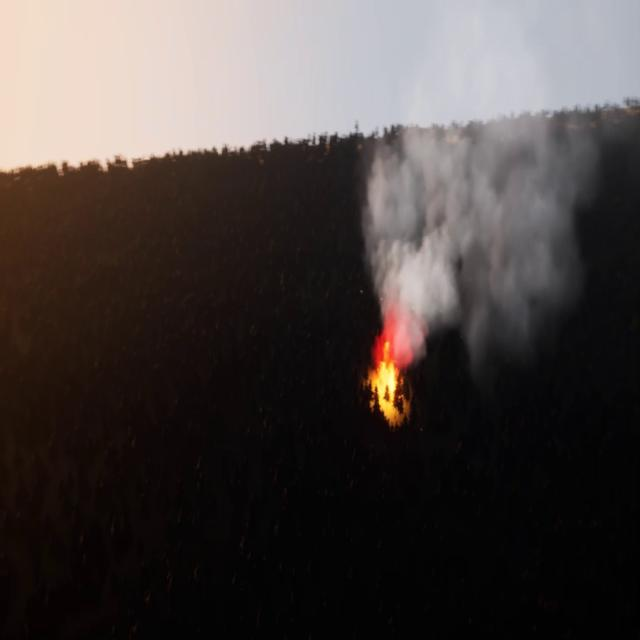fire: (369, 339, 409, 409)
smoke: (362, 49, 616, 349)
